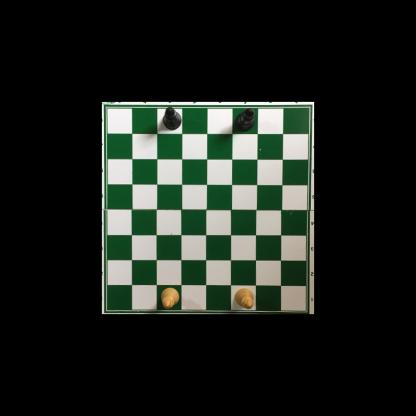black-bishop: (235, 108, 256, 132), (163, 106, 182, 131)
white-bishop: (160, 287, 180, 310), (234, 287, 253, 310)
